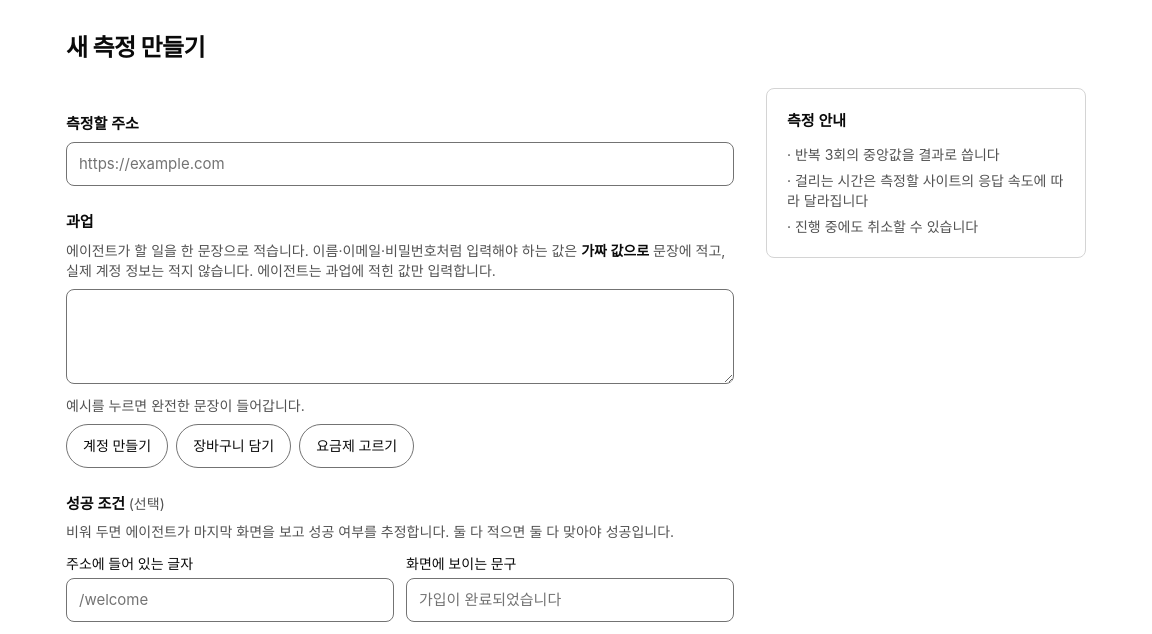
Scenario: 예시 칩: 빈 칸이면 바로 넣고, 적어 둔 과업이 있으면 바꿀지 묻는다
Later steps or results of the test are not shown.
What coordinates should you click on to do the following:
click the button "장바구니 담기"
I would click on:
 (234, 446)
Its box is [176,424,291,468].
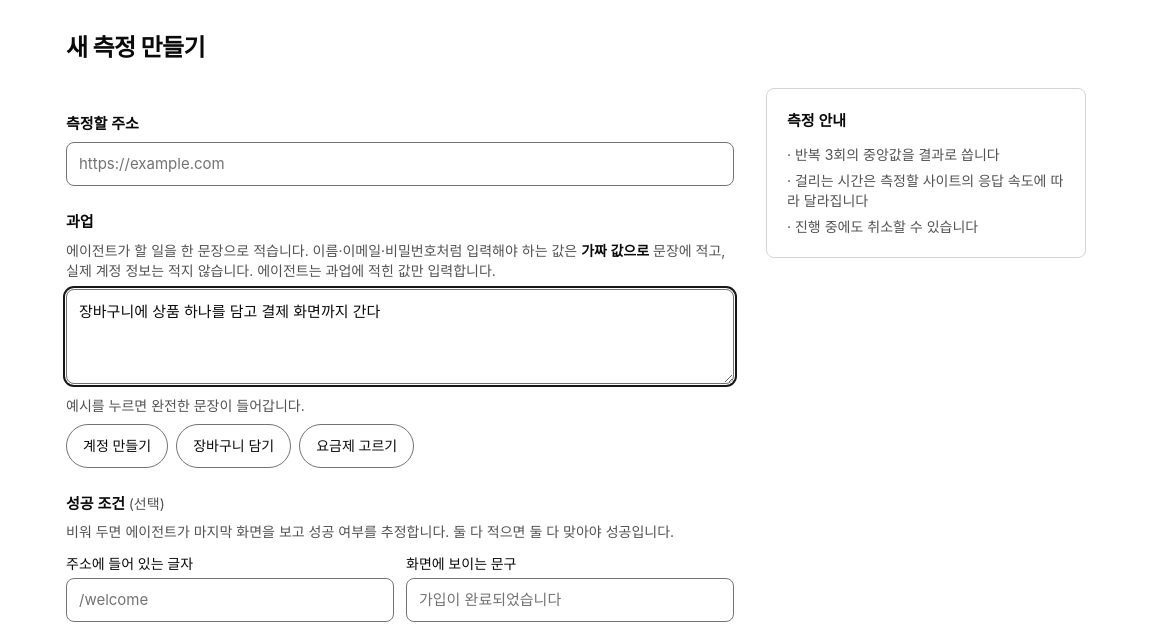
Result: the text box labelled "과업" holds "장바구니에 상품 하나를 담고 결제 화면까지 간다" at [66,289,734,384]
What coordinates should you click on to do the following:
click the button "요금제 고르기"
I would click on:
 (357, 446)
Its box is [299,424,414,468].
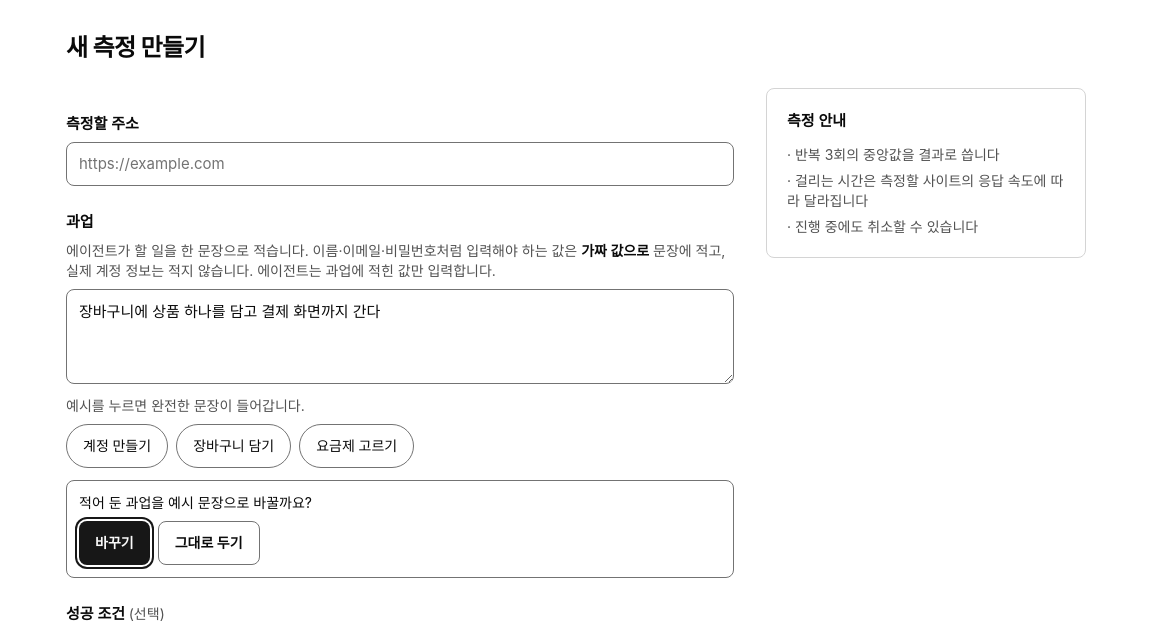
Result: the text "적어 둔 과업을 예시 문장으로 바꿀까요?" is shown at [79,494,312,511]
What coordinates should you click on to do the following:
click the button "그대로 두기"
I would click on:
 (209, 543)
Its box is [158,521,260,565].
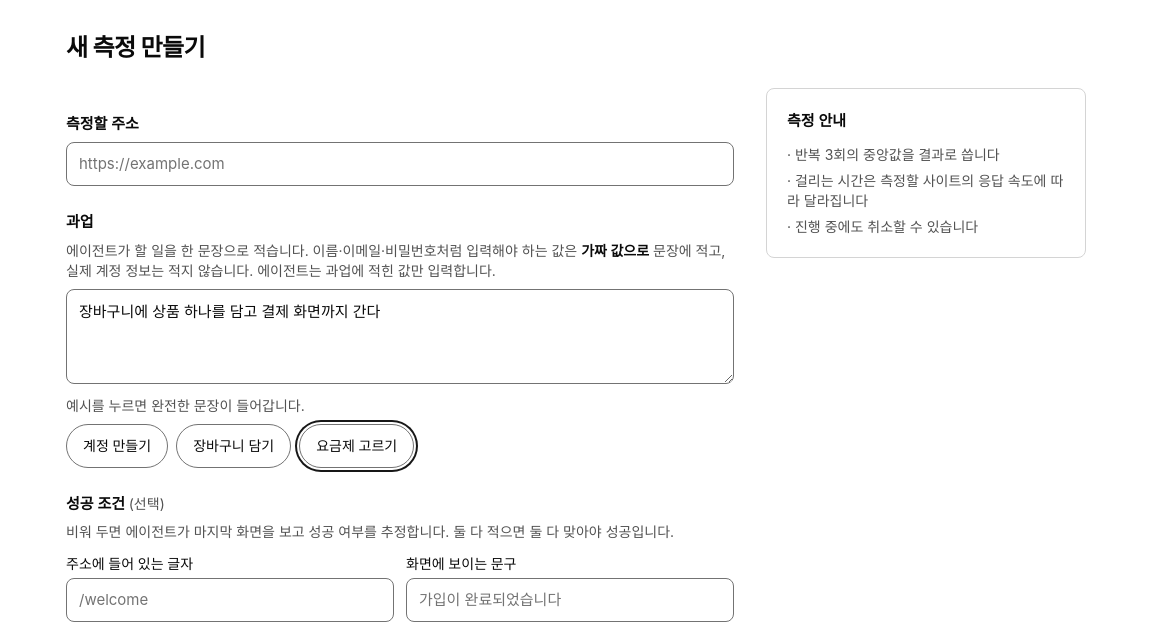
Result: the text box labelled "과업" holds "장바구니에 상품 하나를 담고 결제 화면까지 간다" at [66,289,734,384]
